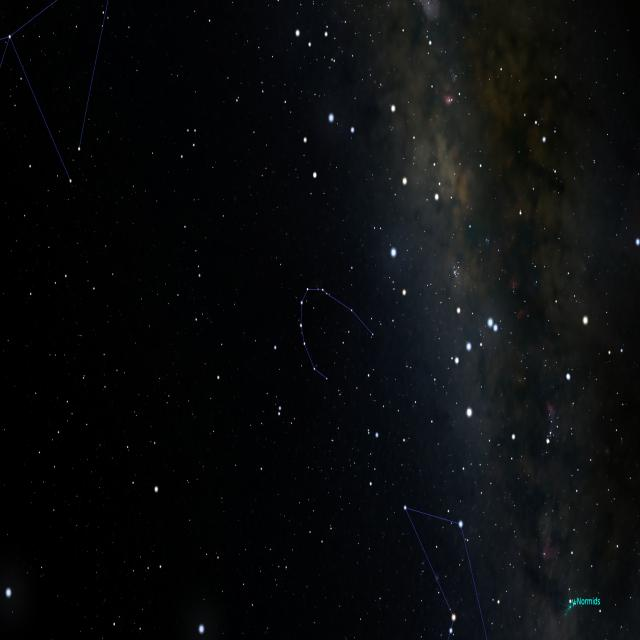Corona: (296, 280, 376, 387)
